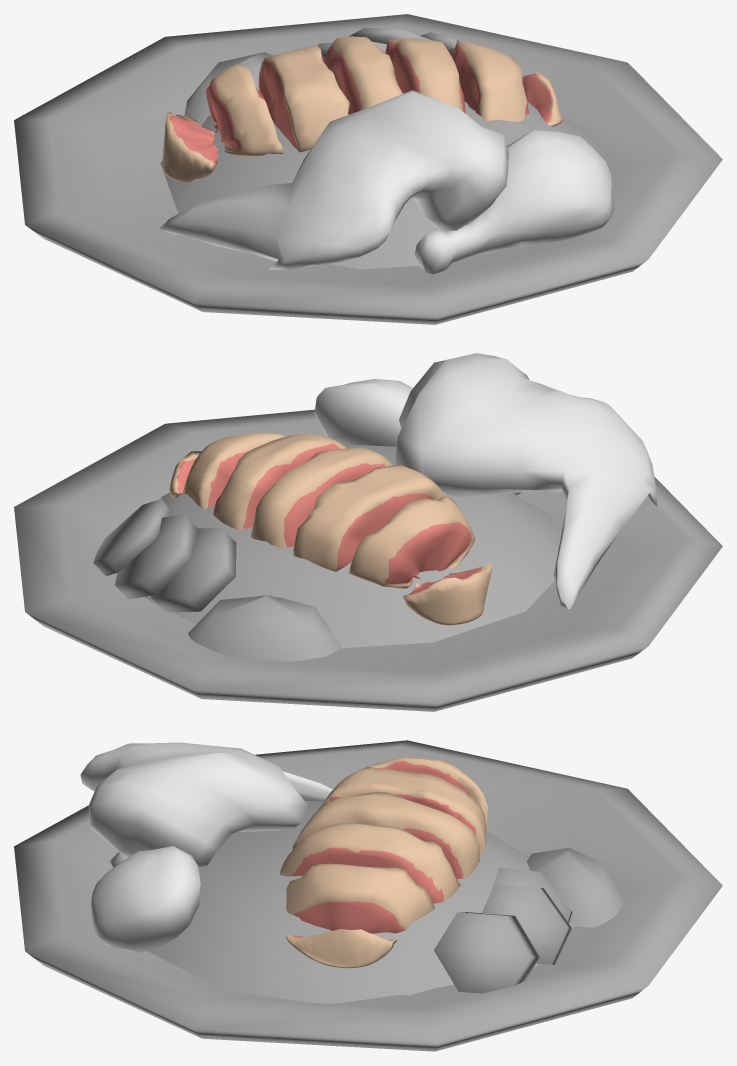
Rendered from Normal_Plate_Of_Chicken_Rice.fbx.
3 views of the same model, one above another, from view 1: azimuth 30°, elevation 25°; view 2: azimuth 150°, elevation 25°; view 3: azimuth 270°, elevation 25° (orthographic).
Visible parts, largest first — view 1: Plate, Chickenwing, Chicken, Drumstick, Rice; view 2: Plate, Rice, Chicken, Chickenwing, Drumstick; view 3: Plate, Rice, Chicken, Chickenwing, Drumstick.
Boxes of the visible parts, <box> form: Plate: <box>14,14,722,324</box>; Chickenwing: <box>159,90,508,269</box>; Chicken: <box>162,36,562,183</box>; Drumstick: <box>414,130,613,274</box>; Rice: <box>160,27,600,269</box>; Plate: <box>14,409,722,711</box>; Rice: <box>93,444,560,661</box>; Chicken: <box>169,432,492,625</box>; Chickenwing: <box>395,353,657,609</box>; Drumstick: <box>314,379,521,495</box>; Plate: <box>14,740,722,1051</box>; Rice: <box>148,800,624,1003</box>; Chicken: <box>280,757,487,968</box>; Chickenwing: <box>80,742,332,866</box>; Drumstick: <box>91,846,201,952</box>.
Bounding box in the file's own units: 14.38 × 3.8 × 14.27.
